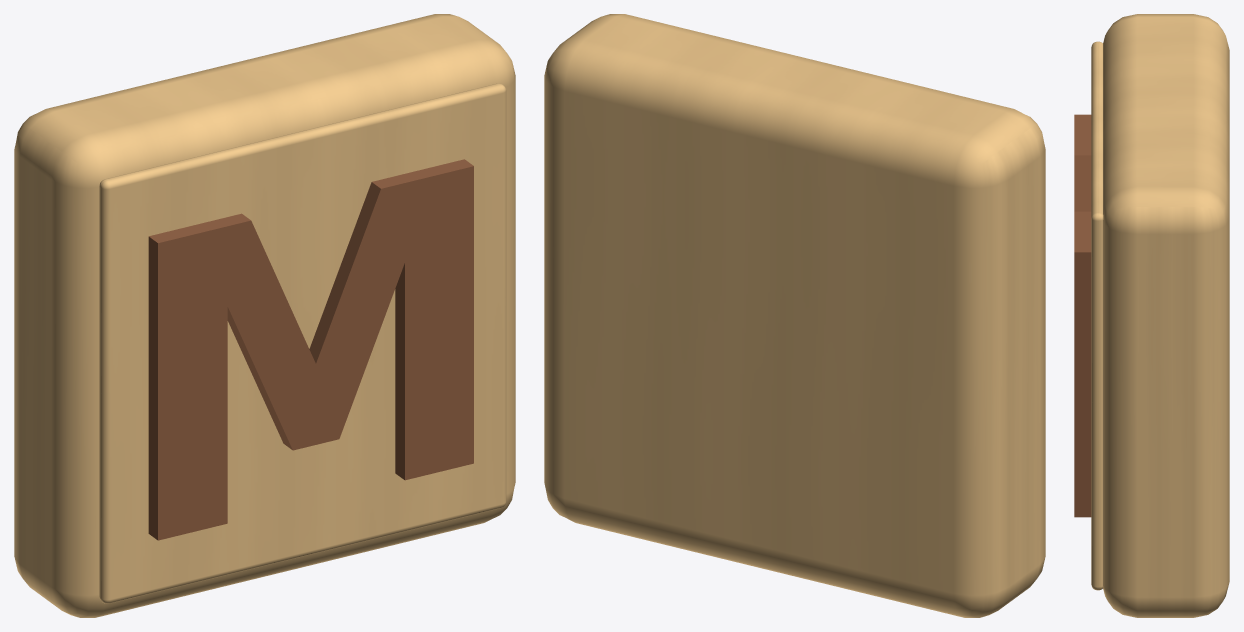
The picture shows the model from 3 angles, left to right: view 1: azimuth 30°, elevation 25°; view 2: azimuth 150°, elevation 25°; view 3: azimuth 270°, elevation 25°; orthographic projection. The views are drawn at different scales.
Parts seen in each view (by area): view 1: Tile_M; view 2: Tile_M; view 3: Tile_M.
Part boxes in pixels (box(x1,y1,x2,y2)): Tile_M: box(14, 14, 515, 617); Tile_M: box(544, 14, 1045, 617); Tile_M: box(1074, 14, 1229, 617).
Size of the model in its own units: 0.21 by 0.21 by 0.069.
Materials: 2 (1 with a texture image).
